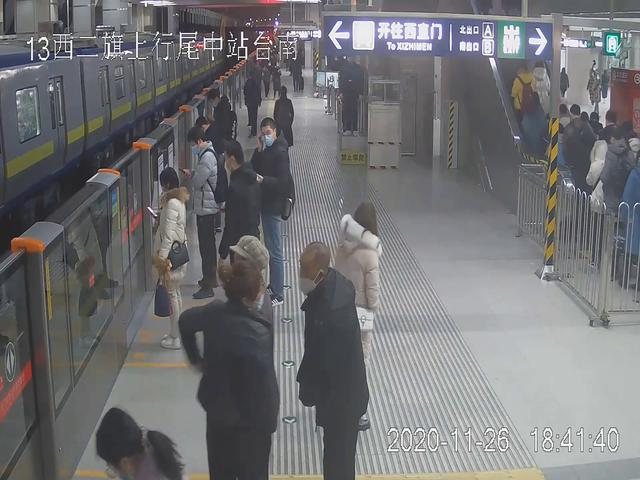person: (184, 260, 271, 480), (292, 239, 364, 480), (333, 200, 378, 433), (143, 168, 193, 346), (183, 125, 227, 306), (253, 118, 294, 308), (220, 137, 260, 311), (336, 57, 362, 138), (271, 84, 294, 173)
